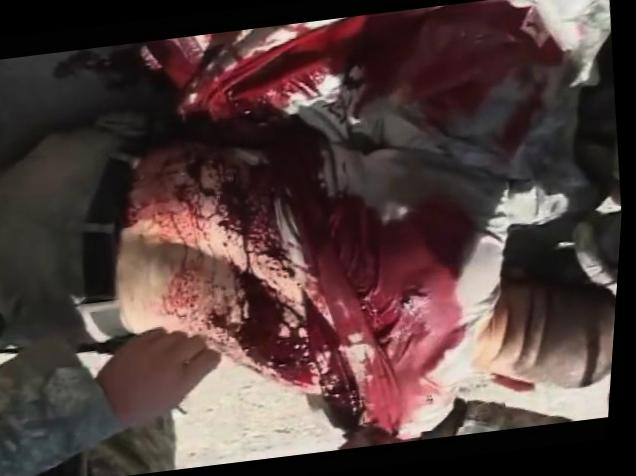Fire: (131, 132, 481, 435), (147, 0, 567, 164), (184, 114, 279, 149)
